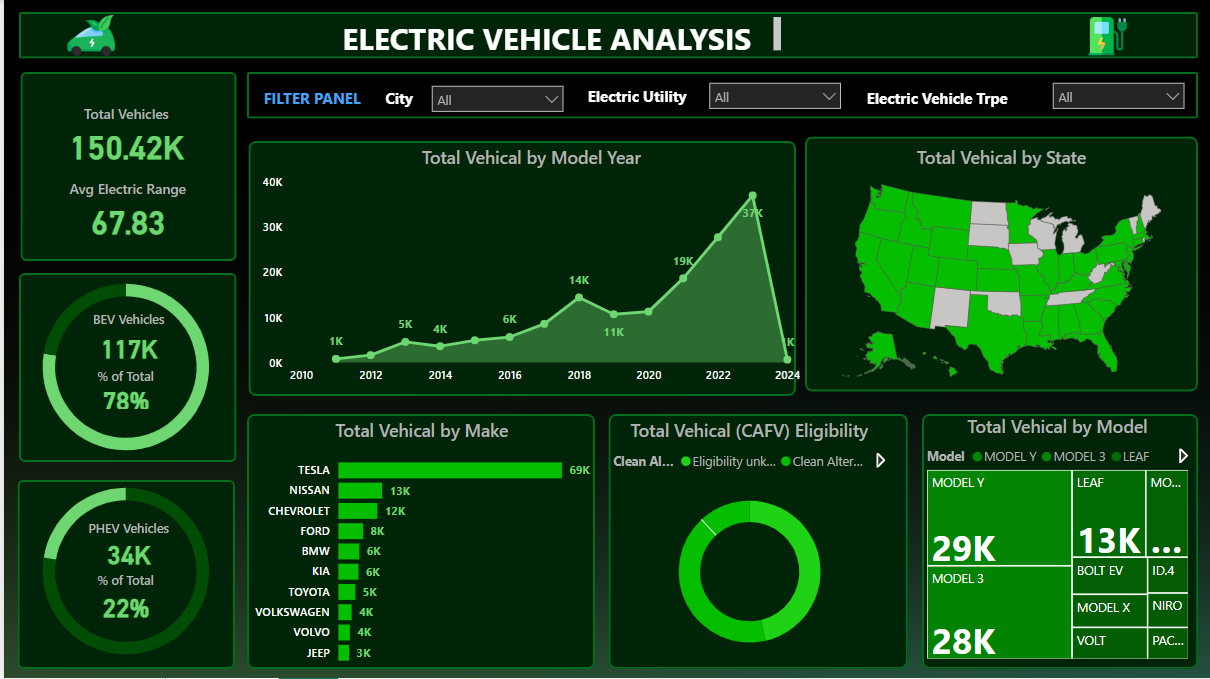

This screenshot's page, from the dashboard's own definition file:
{"tool":"powerbi","page":{"name":"Page 1","canvas":[1280,720],"ordinal":0},"visuals":[{"type":"shape","box":[15.9,12.7,1250.2,49.3],"z":0},{"type":"textbox","box":[329.3,12.7,693.5,49.3],"z":1000},{"type":"shape","box":[17.5,76.3,229,200.4],"z":2000},{"type":"card","title":"Total Vehicles","fields":{"Values":["Electric_Vehicle_Population_Data.Total Vehical"]},"box":[14.3,109.8,230.6,66.8],"z":3000},{"type":"card","title":"Avg Electric Range","fields":{"Values":["Avg(Electric_Vehicle_Population_Data.Electric Range)"]},"box":[15.9,189.3,230.6,66.8],"z":4000},{"type":"shape","box":[15.9,289.5,230.6,200.4],"z":5000},{"type":"shape","box":[14.3,509,230.6,200.4],"z":6000},{"type":"donutChart","fields":{"Category":["Electric_Vehicle_Population_Data.Electric Vehicle Type"],"Y":["Electric_Vehicle_Population_Data.Total Vehical"]},"box":[0,273.6,257.7,230.6],"z":7000},{"type":"card","title":"BEV Vehicles","fields":{"Values":["Electric_Vehicle_Population_Data.BEV Vehicles"]},"box":[73.2,329.3,117.7,60.4],"z":8000},{"type":"card","title":"% of Total","fields":{"Values":["Electric_Vehicle_Population_Data.% of BEV"]},"box":[70,389.7,117.7,49.3],"z":9000},{"type":"donutChart","fields":{"Category":["Electric_Vehicle_Population_Data.Electric Vehicle Type"],"Y":["Electric_Vehicle_Population_Data.Total Vehical"]},"box":[0,489.9,257.7,230.6],"z":10000},{"type":"card","title":"PHEV Vehicles","fields":{"Values":["Electric_Vehicle_Population_Data.PHEV Vehicles"]},"box":[73.2,550.4,117.7,55.7],"z":11000},{"type":"card","title":"% of Total","fields":{"Values":["Electric_Vehicle_Population_Data.% of PHEV"]},"box":[70,606,117.7,57.3],"z":12000},{"type":"shape","box":[259.3,149.5,580.6,270.4],"z":13000},{"type":"areaChart","fields":{"Category":["Electric_Vehicle_Population_Data.Model Year"],"Y":["Electric_Vehicle_Population_Data.Total Vehical"]},"box":[268.8,154.3,580.6,260.9],"z":14000},{"type":"shape","box":[849.4,144.7,416.7,270.4],"z":15000},{"type":"shapeMap","fields":{"Category":["Electric_Vehicle_Population_Data.State"],"Value":["Electric_Vehicle_Population_Data.Total Vehical"]},"box":[849.4,154.3,416.7,260.9],"z":16000},{"type":"shape","box":[257.7,439,369,270.4],"z":17000},{"type":"shape","box":[257.7,76.3,1008.4,49.3],"z":18000},{"type":"clusteredBarChart","fields":{"Category":["Electric_Vehicle_Population_Data.Make"],"Y":["Electric_Vehicle_Population_Data.Total Vehical"]},"box":[259.3,443.8,367.4,270.4],"z":19000},{"type":"shape","box":[640.6,438.4,317.5,270.2],"z":20000},{"type":"donutChart","title":"Total Vehical (CAFV) Eligibility","fields":{"Category":["Electric_Vehicle_Population_Data.Clean Alternative Fuel Vehicle (CAFV) Eligibility"],"Y":["Electric_Vehicle_Population_Data.Total Vehical"]},"box":[640.6,444.1,298.6,270.2],"z":21000},{"type":"shape","box":[973.2,438.4,292.9,270.2],"z":22000},{"type":"treemap","fields":{"Group":["Electric_Vehicle_Population_Data.Model"],"Values":["Electric_Vehicle_Population_Data.Total Vehical"]},"box":[973.2,438.4,287.2,264.6],"z":23000},{"type":"textbox","box":[270.4,87.5,147.9,44.5],"z":24000},{"type":"slicer","fields":{"Values":["Electric_Vehicle_Population_Data.City"]},"box":[443.8,81.1,159.1,47.7],"z":25000},{"type":"textbox","box":[399.2,87.5,87.5,36.6],"z":26000},{"type":"textbox","box":[614,85.9,147.9,36.6],"z":27000},{"type":"textbox","box":[909.8,87.5,179.7,36.6],"z":28000},{"type":"slicer","fields":{"Values":["Electric_Vehicle_Population_Data.Electric Utility"]},"box":[738,77.9,159.1,47.7],"z":29000},{"type":"slicer","fields":{"Values":["Electric_Vehicle_Population_Data.Electric Vehicle Type"]},"box":[1102.3,77.9,159.1,47.7],"z":30000},{"type":"image","box":[55.7,6.4,73.2,62],"z":31000},{"type":"image","box":[1142.1,12.7,57.3,50.9],"z":32000}]}

Visuals, with their boxes in screenshot pixels (x1, y1, x2, y2), scaled from the page's 1280x720 canvas onto the 1210x679 screenshot:
shape: box(15, 12, 1197, 58)
textbox: box(311, 12, 967, 58)
shape: box(17, 72, 233, 261)
"Total Vehicles" card: box(14, 104, 232, 167)
"Avg Electric Range" card: box(15, 179, 233, 242)
shape: box(15, 273, 233, 462)
shape: box(14, 480, 232, 669)
donutChart - Electric_Vehicle_Population_Data.Electric Vehicle Type x Electric_Vehicle_Population_Data.Total Vehical: box(0, 258, 244, 475)
"BEV Vehicles" card: box(69, 311, 180, 368)
"% of Total" card: box(66, 368, 177, 414)
donutChart - Electric_Vehicle_Population_Data.Electric Vehicle Type x Electric_Vehicle_Population_Data.Total Vehical: box(0, 462, 244, 678)
"PHEV Vehicles" card: box(69, 519, 180, 572)
"% of Total" card: box(66, 571, 177, 626)
shape: box(245, 141, 794, 396)
areaChart - Electric_Vehicle_Population_Data.Model Year x Electric_Vehicle_Population_Data.Total Vehical: box(254, 146, 803, 392)
shape: box(803, 136, 1197, 391)
shapeMap - Electric_Vehicle_Population_Data.State x Electric_Vehicle_Population_Data.Total Vehical: box(803, 146, 1197, 392)
shape: box(244, 414, 592, 669)
shape: box(244, 72, 1197, 118)
clusteredBarChart - Electric_Vehicle_Population_Data.Make x Electric_Vehicle_Population_Data.Total Vehical: box(245, 419, 592, 674)
shape: box(606, 413, 906, 668)
"Total Vehical (CAFV) Eligibility" donutChart: box(606, 419, 888, 674)
shape: box(920, 413, 1197, 668)
treemap - Electric_Vehicle_Population_Data.Model x Electric_Vehicle_Population_Data.Total Vehical: box(920, 413, 1191, 663)
textbox: box(256, 83, 395, 124)
slicer - Electric_Vehicle_Population_Data.City: box(420, 76, 570, 121)
textbox: box(377, 83, 460, 117)
textbox: box(580, 81, 720, 116)
textbox: box(860, 83, 1030, 117)
slicer - Electric_Vehicle_Population_Data.Electric Utility: box(698, 73, 848, 118)
slicer - Electric_Vehicle_Population_Data.Electric Vehicle Type: box(1042, 73, 1192, 118)
image: box(53, 6, 122, 65)
image: box(1080, 12, 1134, 60)
